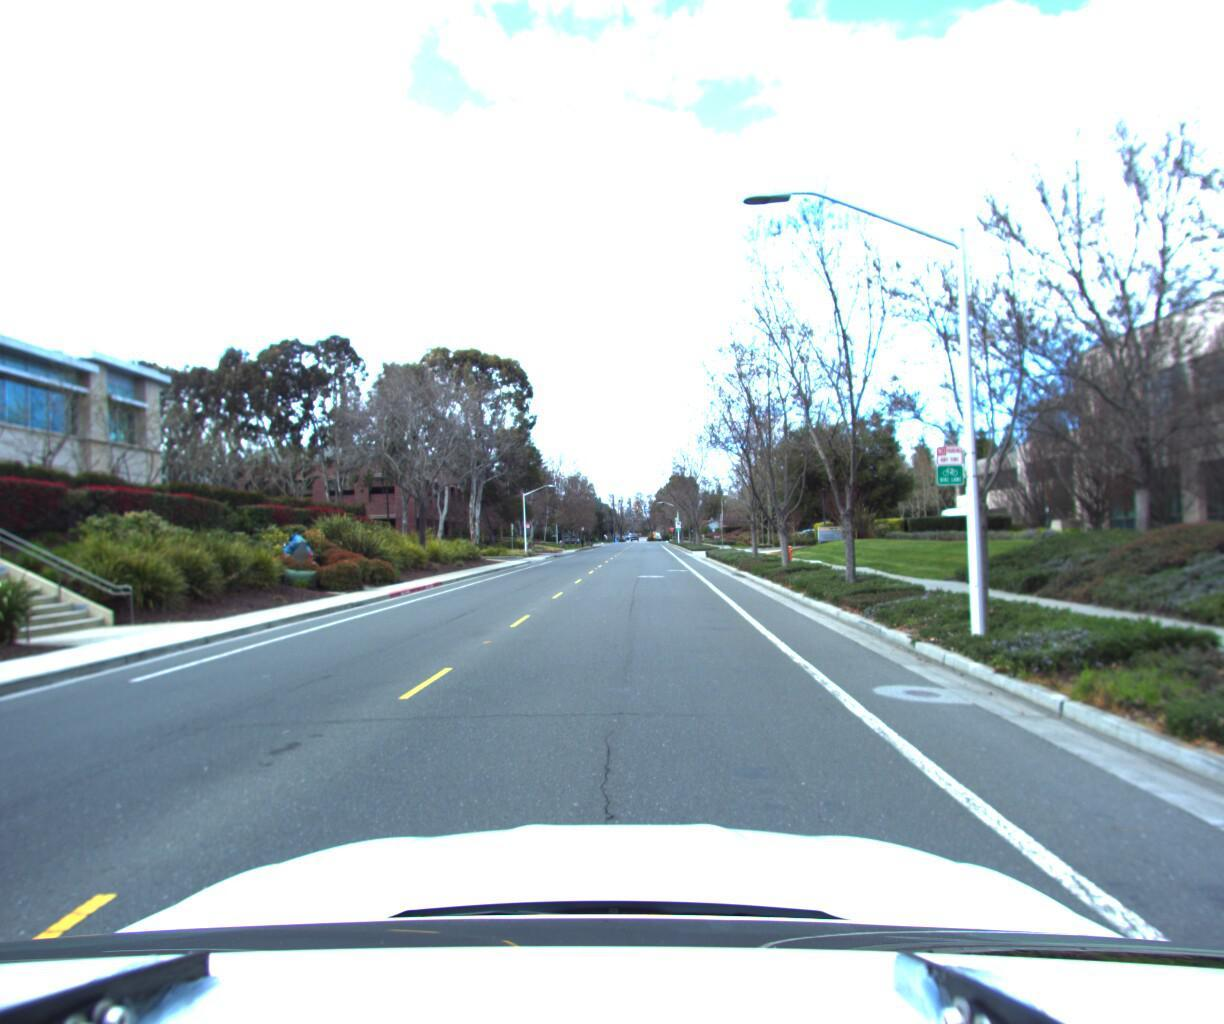car: (932, 503, 973, 540)
